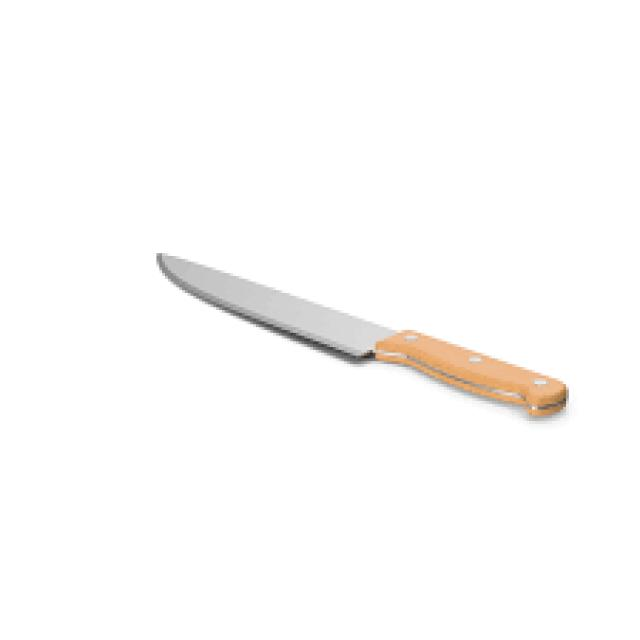Knife: (154, 250, 566, 416)
